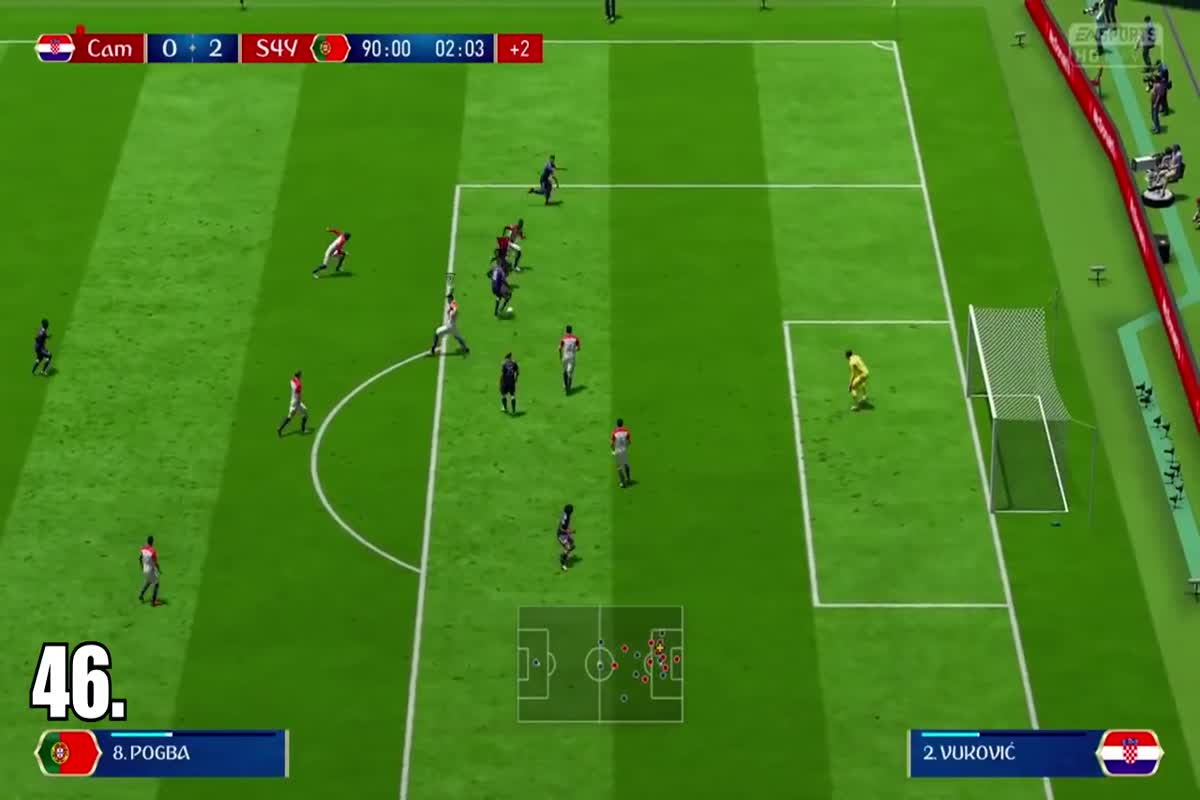ball: (503, 303, 524, 320)
